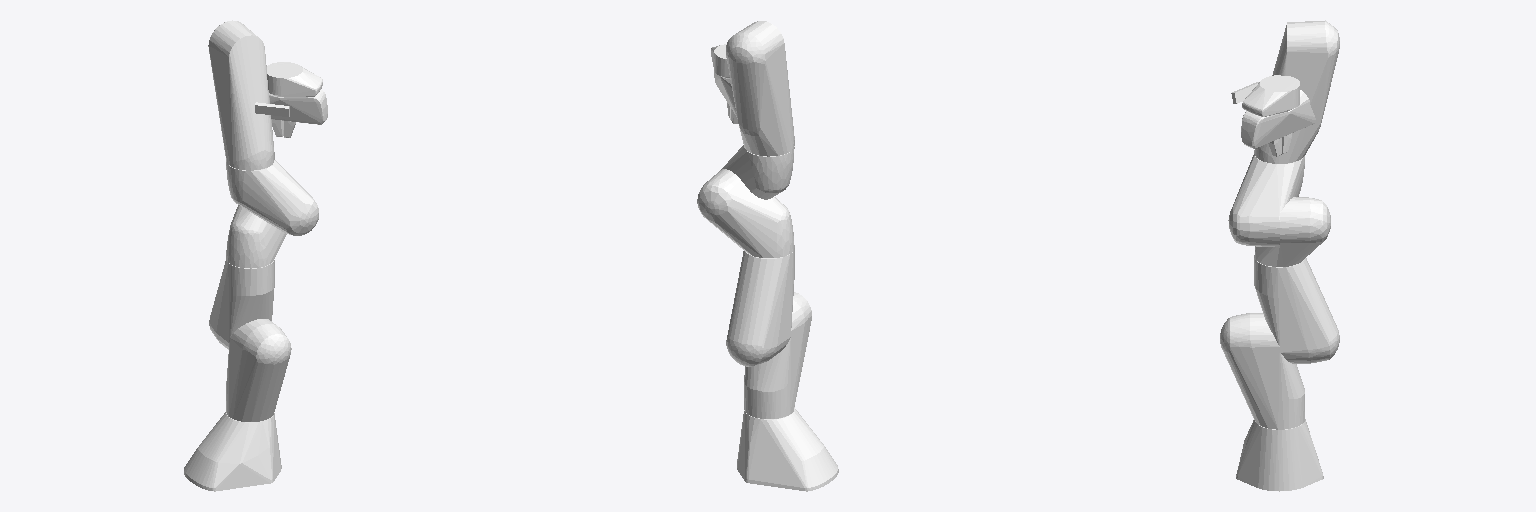
URDF robot description (panda):
<?xml version="1.0" ?>
<!-- =================================================================================== -->
<!-- |    This document was autogenerated by xacro from panda_arm_hand.urdf.xacro      | -->
<!-- |    EDITING THIS FILE BY HAND IS NOT RECOMMENDED                                 | -->
<!-- =================================================================================== -->
<robot name="panda" xmlns:xacro="http://www.ros.org/wiki/xacro">
  <link name="panda_link0">
  	<inertial>
      <origin rpy="0 0 0" xyz="0 0 0.05"/>
       <mass value="2.9"/>
       <inertia ixx="0.1" ixy="0" ixz="0" iyy="0.1" iyz="0" izz="0.1"/>
    </inertial>
    <visual>
      <geometry>
        <mesh filename="package://meshes/collision/link0.obj"/>
      </geometry>
      <material name="panda_white">
    		<color rgba="1. 1. 1. 1."/>
  		</material>
    </visual>
    <collision>
      <geometry>
        <mesh filename="package://meshes/collision/link0.obj"/>
      </geometry>
      <material name="panda_white"/>
    </collision>
  </link>
  <link name="panda_link1">
  	<inertial>
      <origin rpy="0 0 0" xyz="0 -0.04 -0.05"/>
       <mass value="2.7"/>
       <inertia ixx="0.1" ixy="0" ixz="0" iyy="0.1" iyz="0" izz="0.1"/>
    </inertial>
    <visual>
      <geometry>
        <mesh filename="package://meshes/visual/link1.obj"/>
      </geometry>
      <material name="panda_white"/>
    </visual>
    <collision>
      <geometry>
        <mesh filename="package://meshes/collision/link1.obj"/>
      </geometry>
      <material name="panda_white"/>
    </collision>
  </link>
  <joint name="panda_joint1" type="revolute">
    <safety_controller k_position="100.0" k_velocity="40.0" soft_lower_limit="-2.8973" soft_upper_limit="2.8973"/>
    <origin rpy="0 0 0" xyz="0 0 0.333"/>
    <parent link="panda_link0"/>
    <child link="panda_link1"/>
    <axis xyz="0 0 1"/>
    <limit effort="87" lower="-2.9671" upper="2.9671" velocity="2.1750"/>
  </joint>
  <link name="panda_link2">
  	<inertial>
      <origin rpy="0 0 0" xyz="0 -0.04 0.06"/>
       <mass value="2.73"/>
       <inertia ixx="0.1" ixy="0" ixz="0" iyy="0.1" iyz="0" izz="0.1"/>
    </inertial>
    <visual>
      <geometry>
        <mesh filename="package://meshes/visual/link2.obj"/>
      </geometry>
      <material name="panda_white"/>
    </visual>
    <collision>
      <geometry>
        <mesh filename="package://meshes/collision/link2.obj"/>
      </geometry>
      <material name="panda_white"/>
    </collision>
  </link>
  <joint name="panda_joint2" type="revolute">
    <safety_controller k_position="100.0" k_velocity="40.0" soft_lower_limit="-1.7628" soft_upper_limit="1.7628"/>
    <origin rpy="-1.57079632679 0 0" xyz="0 0 0"/>
    <parent link="panda_link1"/>
    <child link="panda_link2"/>
    <axis xyz="0 0 1"/>
    <limit effort="87" lower="-1.8326" upper="1.8326" velocity="2.1750"/>
  </joint>
  <link name="panda_link3">
	  <inertial>
      <origin rpy="0 0 0" xyz="0.01 0.01 -0.05"/>
       <mass value="2.04"/>
       <inertia ixx="0.1" ixy="0" ixz="0" iyy="0.1" iyz="0" izz="0.1"/>
    </inertial>
    <visual>
      <geometry>
        <mesh filename="package://meshes/visual/link3.obj"/>
      </geometry>
      <material name="panda_red">
    		<color rgba="1. 1. 1. 1."/>
  		</material>
    </visual>
    <collision>
      <geometry>
        <mesh filename="package://meshes/collision/link3.obj"/>
      </geometry>
    </collision>
  </link>
  <joint name="panda_joint3" type="revolute">
    <safety_controller k_position="100.0" k_velocity="40.0" soft_lower_limit="-2.8973" soft_upper_limit="2.8973"/>
    <origin rpy="1.57079632679 0 0" xyz="0 -0.316 0"/>
    <parent link="panda_link2"/>
    <child link="panda_link3"/>
    <axis xyz="0 0 1"/>
    <limit effort="87" lower="-2.9671" upper="2.9671" velocity="2.1750"/>
  </joint>
  <link name="panda_link4">
  	<inertial>
      <origin rpy="0 0 0" xyz="-0.03 0.03 0.02"/>
       <mass value="2.08"/>
       <inertia ixx="0.1" ixy="0" ixz="0" iyy="0.1" iyz="0" izz="0.1"/>
    </inertial>
    <visual>
      <geometry>
        <mesh filename="package://meshes/visual/link4.obj"/>
      </geometry>
      <material name="panda_white"/>
    </visual>
    <collision>
      <geometry>
        <mesh filename="package://meshes/collision/link4.obj"/>
      </geometry>
      <material name="panda_white"/>
    </collision>
  </link>
  <joint name="panda_joint4" type="revolute">
    <safety_controller k_position="100.0" k_velocity="40.0" soft_lower_limit="-3.0718" soft_upper_limit="-0.0698"/>
    <origin rpy="1.57079632679 0 0" xyz="0.0825 0 0"/>
    <parent link="panda_link3"/>
    <child link="panda_link4"/>
    <axis xyz="0 0 1"/>
    <limit effort="87" lower="-3.1416" upper="0.0" velocity="2.1750"/>
  </joint>
  <link name="panda_link5">
  	<inertial>
      <origin rpy="0 0 0" xyz="0 0.04 -0.12"/>
       <mass value="3"/>
       <inertia ixx="0.1" ixy="0" ixz="0" iyy="0.1" iyz="0" izz="0.1"/>
    </inertial>
    <visual>
      <geometry>
        <mesh filename="package://meshes/visual/link5.obj"/>
      </geometry>
      <material name="panda_white"/>
    </visual>
    <collision>
      <geometry>
        <mesh filename="package://meshes/collision/link5.obj"/>
      </geometry>
      <material name="panda_white"/>
    </collision>
  </link>
  <joint name="panda_joint5" type="revolute">
    <safety_controller k_position="100.0" k_velocity="40.0" soft_lower_limit="-2.8973" soft_upper_limit="2.8973"/>
    <origin rpy="-1.57079632679 0 0" xyz="-0.0825 0.384 0"/>
    <parent link="panda_link4"/>
    <child link="panda_link5"/>
    <axis xyz="0 0 1"/>
    <limit effort="12" lower="-2.9671" upper="2.9671" velocity="2.6100"/>
  </joint>
  <link name="panda_link6">
  	<inertial>
      <origin rpy="0 0 0" xyz="0.04 0 0"/>
       <mass value="1.3"/>
       <inertia ixx="0.1" ixy="0" ixz="0" iyy="0.1" iyz="0" izz="0.1"/>
    </inertial>
    <visual>
      <geometry>
        <mesh filename="package://meshes/visual/link6.obj"/>
      </geometry>
      <material name="panda_white"/>
    </visual>
    <collision>
      <geometry>
        <mesh filename="package://meshes/collision/link6.obj"/>
      </geometry>
      <material name="panda_white"/>
    </collision>
  </link>
  <joint name="panda_joint6" type="revolute">
    <safety_controller k_position="100.0" k_velocity="40.0" soft_lower_limit="-0.0175" soft_upper_limit="3.7525"/>
    <origin rpy="1.57079632679 0 0" xyz="0 0 0"/>
    <parent link="panda_link5"/>
    <child link="panda_link6"/>
    <axis xyz="0 0 1"/>
    <limit effort="12" lower="-0.0873" upper="3.8223" velocity="2.6100"/>
  </joint>
  <link name="panda_link7">
  	<inertial>
      <origin rpy="0 0 0" xyz="0 0 0.08"/>
       <mass value=".2"/>
       <inertia ixx="0.1" ixy="0" ixz="0" iyy="0.1" iyz="0" izz="0.1"/>
    </inertial>
    <visual>
      <geometry>
        <mesh filename="package://meshes/collision/link7.obj"/>
      </geometry>
      <material name="panda_white"/>
    </visual>
    <collision>
      <geometry>
        <mesh filename="package://meshes/collision/link7.obj"/>
      </geometry>
      <material name="panda_white"/>
    </collision>
  </link>
  <joint name="panda_joint7" type="revolute">
    <safety_controller k_position="100.0" k_velocity="40.0" soft_lower_limit="-2.8973" soft_upper_limit="2.8973"/>
    <origin rpy="1.57079632679 0 0" xyz="0.088 0 0"/>
    <parent link="panda_link6"/>
    <child link="panda_link7"/>
    <axis xyz="0 0 1"/>
    <limit effort="12" lower="-2.9671" upper="2.9671" velocity="2.6100"/>
  </joint>
  <link name="panda_link8">
  	 <inertial>
      <origin rpy="0 0 0" xyz="0 0 0"/>
       <mass value="0.0"/>
       <inertia ixx="0.1" ixy="0" ixz="0" iyy="0.1" iyz="0" izz="0.1"/>
    </inertial>
  </link>
  <joint name="panda_joint8" type="fixed">
    <origin rpy="0 0 0" xyz="0 0 0.107"/>
    <parent link="panda_link7"/>
    <child link="panda_link8"/>
    <axis xyz="0 0 0"/>
  </joint>
  <joint name="panda_hand_joint" type="fixed">
    <parent link="panda_link8"/>
    <child link="panda_hand"/>
    <origin rpy="0 0 -0.785398163397" xyz="0 0 0"/>
  </joint>
  <link name="panda_hand">
  	<inertial>
      <origin rpy="0 0 0" xyz="0 0 0.04"/>
       <mass value=".81"/>
       <inertia ixx="0.1" ixy="0" ixz="0" iyy="0.1" iyz="0" izz="0.1"/>
    </inertial>
    <visual>
      <geometry>
        <mesh filename="package://meshes/visual/hand.obj"/>
      </geometry>
      <material name="panda_white"/>
    </visual>
    <collision>
      <geometry>
        <mesh filename="package://meshes/collision/hand.obj"/>
      </geometry>
      <material name="panda_white"/>
    </collision>
  </link>
  <link name="panda_leftfinger">
       <contact>
      <friction_anchor/>
      <stiffness value="30000.0"/>
      <damping value="1000.0"/>
      <spinning_friction value="0.1"/>
      <lateral_friction value="1.0"/>
    </contact>
  	<inertial>
      <origin rpy="0 0 0" xyz="0 0.01 0.02"/>
       <mass value="0.1"/>
       <inertia ixx="0.1" ixy="0" ixz="0" iyy="0.1" iyz="0" izz="0.1"/>
    </inertial>
    <visual>
      <geometry>
        <mesh filename="package://meshes/visual/finger.obj"/>
      </geometry>
      <material name="panda_white"/>
    </visual>
<!--    <collision>-->
<!--      <geometry>-->
<!--        <mesh filename="package://meshes/collision/finger.obj"/>-->
<!--      </geometry>-->
<!--      <material name="panda_white"/>-->
<!--    </collision>-->
  </link>
  <link name="panda_rightfinger">
        <contact>
      <friction_anchor/>
      <stiffness value="30000.0"/>
      <damping value="1000.0"/>
      <spinning_friction value="0.1"/>
      <lateral_friction value="1.0"/>
    </contact>

  	<inertial>
      <origin rpy="0 0 0" xyz="0 -0.01 0.02"/>
       <mass value="0.1"/>
       <inertia ixx="0.1" ixy="0" ixz="0" iyy="0.1" iyz="0" izz="0.1"/>
    </inertial>
    <visual>
      <origin rpy="0 0 3.14159265359" xyz="0 0 0"/>
      <geometry>
        <mesh filename="package://meshes/visual/finger.obj"/>
      </geometry>
      <material name="panda_white"/>
    </visual>
<!--    <collision>-->
<!--      <origin rpy="0 0 3.14159265359" xyz="0 0 0"/>-->
<!--      <geometry>-->
<!--        <mesh filename="package://meshes/collision/finger.obj"/>-->
<!--      </geometry>-->
<!--      <material name="panda_white"/>-->
<!--    </collision>-->
  </link>
  <joint name="panda_finger_joint1" type="prismatic">
    <parent link="panda_hand"/>
    <child link="panda_leftfinger"/>
    <origin rpy="0 0 0" xyz="0 0.002 0.0584"/>
    <axis xyz="0 1 0"/>
    <limit effort="20" lower="0.0" upper="0.04" velocity="0.2"/>
  </joint>
  <joint name="panda_finger_joint2" type="prismatic">
    <parent link="panda_hand"/>
    <child link="panda_rightfinger"/>
    <origin rpy="0 0 0" xyz="0 -0.002 0.0584"/>
    <axis xyz="0 -1 0"/>
    <limit effort="20" lower="0.0" upper="0.04" velocity="0.2"/>
    <mimic joint="panda_finger_joint1"/>
  </joint>
   <link name="panda_grasptarget">
 <inertial>
      <origin rpy="0 0 0" xyz="0 0 0"/>
       <mass value="0.0"/>
       <inertia ixx="0.1" ixy="0" ixz="0" iyy="0.1" iyz="0" izz="0.1"/>
    </inertial>
   </link>
   <joint name="panda_grasptarget_hand" type="fixed">
    <parent link="panda_hand"/>
    <child link="panda_grasptarget"/>
    <origin rpy="0 0 0" xyz="0 0 0.105"/>
  </joint>

<!-- attach camera object to gripper-->

    <joint name="camera_joint" type='fixed'>
	  <parent link="panda_hand"/>
	  <child link="gripper_cam"/>
	  <origin xyz="-0.1 0 0" rpy="1.3 0 -1.57"/>
    </joint>

	 <link name="gripper_cam">
		<inertial>
			<origin rpy="0 0 0" xyz="0 0.0 0.0"/>
			<mass value="0.2"/>
			<inertia ixx="0.1" ixy="0" ixz="0" iyy="0.1" iyz="0" izz="0.1"/>
		</inertial>

		<visual>
		  <origin rpy="0 0 0" xyz="0 0 0"/>
		  <geometry>
			<box size=".08 .025 0.01"/>
		  </geometry>
		  <material name="panda_white"/>
		</visual>

	 </link>

	<joint name="tcp_joint" type='fixed'>
	  <parent link="panda_hand"/>
	  <child link="tcp"/>
	  <origin xyz="0 0 0.1" rpy="0 0 0"/>
    </joint>

	<link name="tcp">
		<inertial>
			<origin rpy="0 0 0" xyz="0 0.0 0.0"/>
			<mass value="0.00001"/>
			<inertia ixx="0.1" ixy="0" ixz="0" iyy="0.1" iyz="0" izz="0.1"/>
		</inertial>

	 </link>
<!-- 	<joint name="panda_left_digit_joint" type='fixed'>-->
<!--	  <parent link="panda_leftfinger"/>-->
<!--	  <child link="panda_left_digit_link"/>-->
<!--	  <origin xyz="0 0 0.045" rpy="0 0 0"/>-->
<!--    </joint>-->
<!--	-->
<!--	<link name="panda_left_digit_link">-->
<!--		<inertial>-->
<!--			<origin rpy="0 0 0" xyz="0 0.0 0.0"/>-->
<!--			<mass value="0.00001"/>-->
<!--			<inertia ixx="0.1" ixy="0" ixz="0" iyy="0.1" iyz="0" izz="0.1"/>-->
<!--		</inertial>-->
<!--		-->
<!--	 </link>-->
<!--	<joint name="panda_right_digit_joint" type='fixed'>-->
<!--	  <parent link="panda_rightfinger"/>-->
<!--	  <child link="panda_right_digit_link"/>-->
<!--	  <origin xyz="0 0 0.045" rpy="0 0 0"/>-->
<!--    </joint>-->
<!--	-->
<!--	<link name="panda_right_digit_link">-->
<!--		<inertial>-->
<!--			<origin rpy="0 0 0" xyz="0 0.0 0.0"/>-->
<!--			<mass value="0.00001"/>-->
<!--			<inertia ixx="0.1" ixy="0" ixz="0" iyy="0.1" iyz="0" izz="0.1"/>-->
<!--		</inertial>-->
<!--		-->
<!--	 </link>-->
 <joint name="joint_finger_tip_left" type="fixed">
     <!-- <origin xyz="0 0 0.023" rpy="0 0 0" /> -->
     <origin xyz="0 0.018 0.03" rpy="0 0 -1.57" />
     <parent link="panda_leftfinger"/>
     <child link="finger_left_tip" />
     <dynamics friction="100" damping="100" />
     <axis xyz="1 0 0"/>
     <limit effort="100" velocity="100"/>
  </joint>

  <link name="finger_left_tip">

      <contact>
        <friction_anchor/>
        <stiffness value="30000.0"/>
        <damping value="1000.0"/>
        <lateral_friction value="1"/>
        <rolling_friction value="0.1"/>
        <contact_cfm value="0.0"/>
        <contact_erp value="1.0"/>
      </contact>

      <inertial>
          <mass value="0.1" />
          <origin xyz="0 0 0" />
      <inertia ixx="1.0" ixy="0.0" ixz="0.0"
               iyy="1.0" iyz="0.0"
               izz="1.0" />
      </inertial>

      <visual>
          <!-- <origin xyz="-0.006 0 0.057" rpy="0 0 0" /> -->
          <geometry>
             <mesh filename="package://meshes/visual/digit.STL"/>
          </geometry>
          <material name="white">
            <color rgba="1. 1. 1. 1"/>
          </material>
      </visual>

      <collision>
          <!-- <origin xyz="-0.006 0 0.057" rpy="0 0 0" /> -->
          <geometry>
             <mesh filename="package://meshes/visual/digit.STL"/>
         </geometry>
     </collision>
  </link>


  <joint name="joint_finger_tip_right" type="fixed">

      <origin xyz="0 -0.018 0.03" rpy="0 0 1.57" />
     <!-- <origin xyz="0 0 0.023" rpy="0 0 0" /> -->
     <parent link="panda_rightfinger"/>
     <child link="finger_right_tip" />
     <dynamics friction="100" damping="100" />
     <axis xyz="1 0 0"/>
     <limit effort="100" velocity="100"/>
  </joint>

  <link name="finger_right_tip">

      <contact>
        <friction_anchor/>
        <stiffness value="30000.0"/>
        <damping value="1000.0"/>
        <lateral_friction value="1"/>
        <rolling_friction value="0.1"/>
        <contact_cfm value="0.0"/>
        <contact_erp value="1.0"/>
      </contact>

      <inertial>
          <mass value="0.1" />
          <origin xyz="0 0 0" />
      <inertia ixx="1.0" ixy="0.0" ixz="0.0"
               iyy="1.0" iyz="0.0"
               izz="1.0" />
      </inertial>

      <visual>
          <!-- <origin xyz="-0.006 0 0.057" rpy="0 0 0" /> -->
          <geometry>
             <mesh filename="package://meshes/visual/digit.STL"/>
          </geometry>
          <material name="white">
            <color rgba="1. 1. 1. 1"/>
          </material>
      </visual>

      <collision>
          <!-- <origin xyz="-0.006 0 0.057" rpy="0 0 0" /> -->
          <geometry>
             <mesh filename="package://meshes/visual/digit.STL"/>
         </geometry>
     </collision>
  </link>
</robot>

--- What the picture shows (computed from the rendered views, not written in the file) ---
3 views of the same robot in one strip: view 1: azimuth 30°, elevation 25°; view 2: azimuth 150°, elevation 25°; view 3: azimuth 270°, elevation 25° (orthographic).
Robot: panda — 17 links, 16 joints (7 revolute, 2 prismatic, 7 fixed); root link panda_link0; default pose: every joint at zero.
Links seen in each view (by area): view 1: panda_link5, panda_link0, panda_link1, panda_link4, panda_link2, panda_link3, panda_link7, panda_hand; view 2: panda_link5, panda_link2, panda_link0, panda_link3, panda_link1, panda_link4; view 3: panda_link1, panda_link2, panda_link5, panda_link0, panda_link4, panda_link3, panda_hand, panda_link7.
Link boxes in pixels (x1,y1,x2,y2): panda_link5: (208, 20, 274, 170); panda_link0: (184, 412, 281, 491); panda_link1: (226, 319, 291, 421); panda_link4: (226, 160, 318, 235); panda_link2: (209, 260, 274, 349); panda_link3: (226, 205, 286, 268); panda_link7: (267, 62, 322, 96); panda_hand: (269, 90, 327, 124); panda_link5: (726, 21, 794, 156); panda_link2: (726, 248, 794, 366); panda_link0: (737, 407, 838, 491); panda_link3: (697, 169, 794, 257); panda_link1: (744, 292, 811, 418); panda_link4: (721, 145, 794, 199); panda_link1: (1220, 313, 1304, 429); panda_link2: (1254, 258, 1339, 363); panda_link5: (1254, 20, 1339, 163); panda_link0: (1236, 419, 1323, 491); panda_link4: (1228, 154, 1304, 246); panda_link3: (1254, 197, 1330, 266); panda_hand: (1241, 90, 1315, 148); panda_link7: (1242, 75, 1299, 116).
Bounding box of the posed robot: 0.3253 × 0.2593 × 1.09 m (x, y, z).
10 mesh visuals loaded from 11 distinct referenced files (9 OBJ); not drawn: 3 (reference not matched to a file when rendering).
